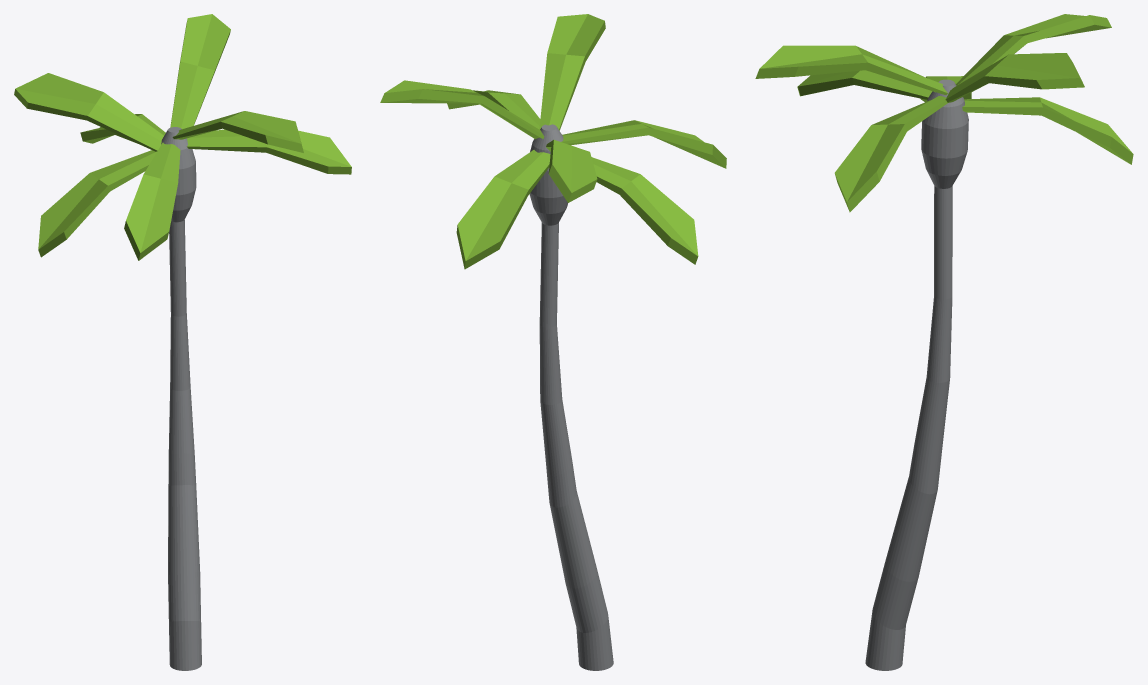
File: Tree_Caribbean.fbx
3 renders of one model, left to right at view 1: azimuth 30°, elevation 25°; view 2: azimuth 150°, elevation 25°; view 3: azimuth 270°, elevation 25°, orthographic. The views are drawn at different scales.
Visible parts, largest first — view 1: polySurface21; view 2: polySurface21; view 3: polySurface21.
Part boxes in pixels (x1,y1,x2,y2): polySurface21: (14,14,351,670); polySurface21: (380,14,726,670); polySurface21: (755,14,1133,670).
Size of the model in its own units: 137 by 274 by 143.
